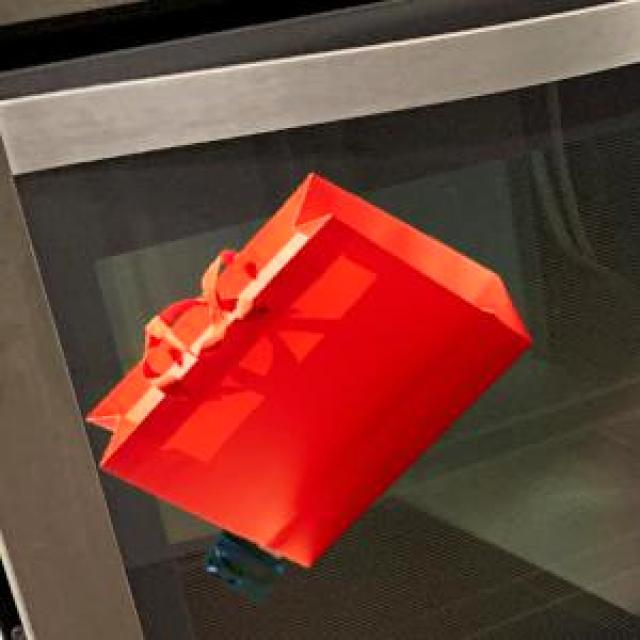Paper_Bag: (84, 170, 528, 564), (200, 526, 282, 600)
